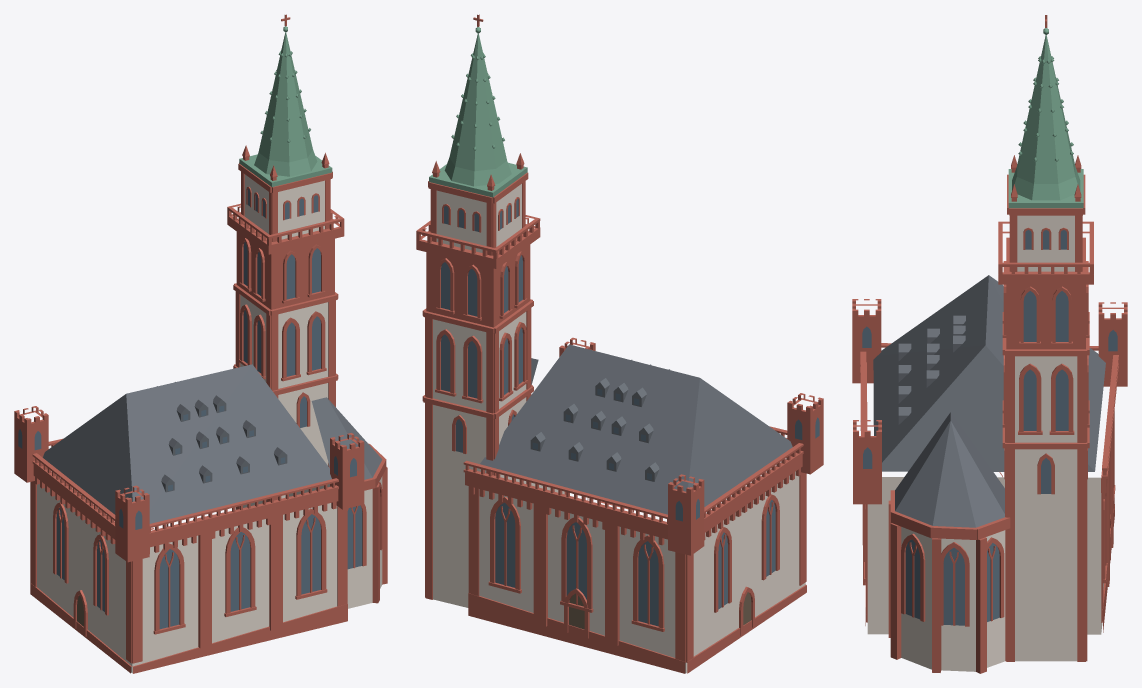
The model's file is frankfurt-alte-nikolaikirche.detail.glb.
3 views of the same model, side by side, from view 1: azimuth 30°, elevation 25°; view 2: azimuth 150°, elevation 25°; view 3: azimuth 270°, elevation 25° (orthographic). The views are drawn at different scales.
Visible parts, largest first — view 1: Alte Nikolaikirche; view 2: Alte Nikolaikirche; view 3: Alte Nikolaikirche.
Boxes of the visible parts, x1,y1,x2,y2 form: Alte Nikolaikirche: (14, 14, 387, 673); Alte Nikolaikirche: (416, 14, 823, 673); Alte Nikolaikirche: (852, 15, 1127, 673).
Bounding box in the file's own units: 27.32 × 48 × 19.09.
